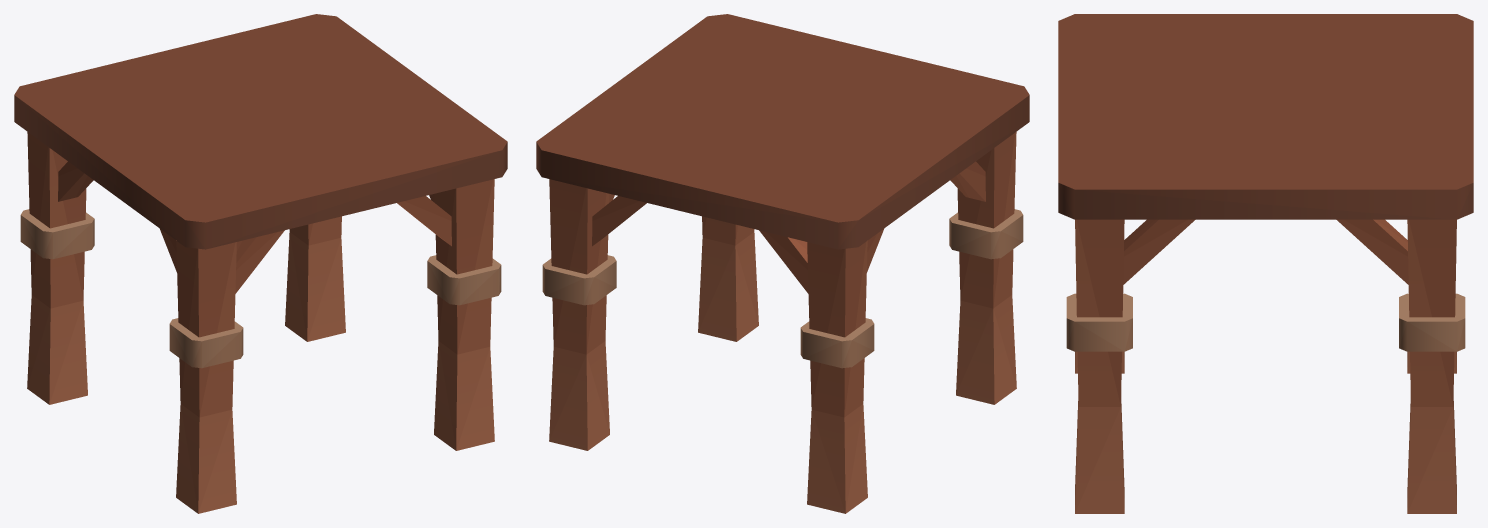
File: pirate_structure.glb
3 views of the same model, side by side, from view 1: azimuth 30°, elevation 25°; view 2: azimuth 150°, elevation 25°; view 3: azimuth 270°, elevation 25° (orthographic). The views are drawn at different scales.
Parts seen in each view (by area): view 1: pirate_structure; view 2: pirate_structure; view 3: pirate_structure.
Boxes of the visible parts, <box> form: pirate_structure: <box>14,14,507,513</box>; pirate_structure: <box>536,14,1029,513</box>; pirate_structure: <box>1058,14,1473,513</box>.
Size of the model in its own units: 2.5 by 2.2 by 2.5.
